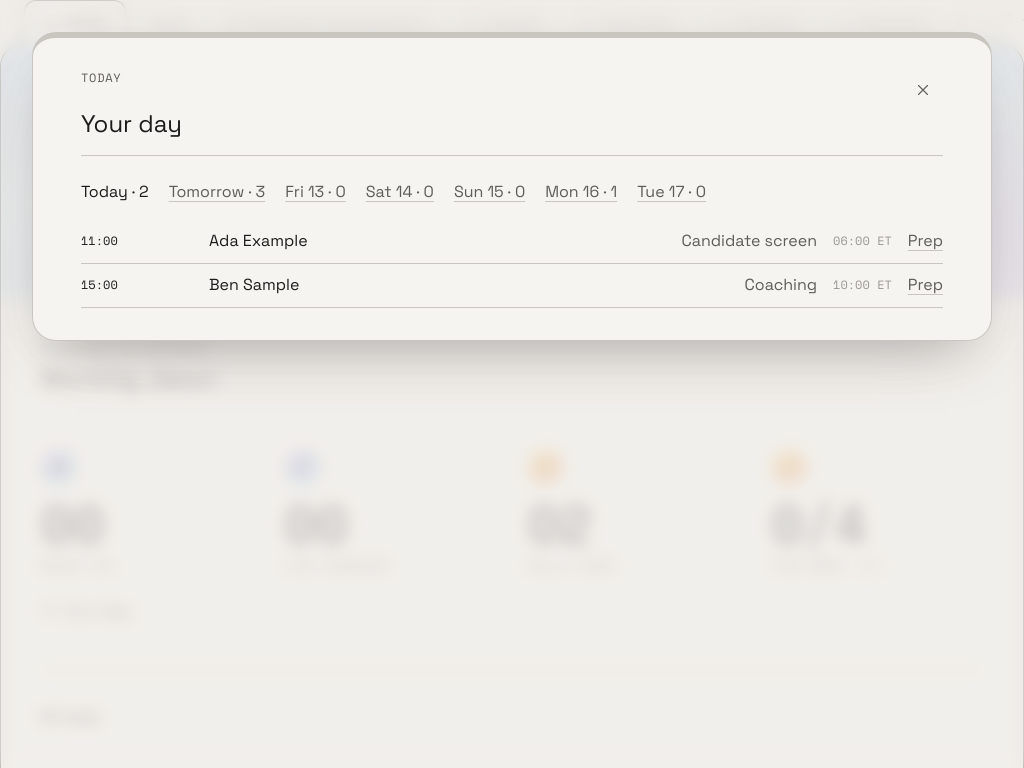
it: Home › the seven-day strip (Jason, 15 November 2026) › a click on a day shows that day’s calls in the same rows, and Prep opens its prep card
Click the button "Mon 16 · 1" at point(581, 192), box x1=545 y1=172 x2=617 y2=212
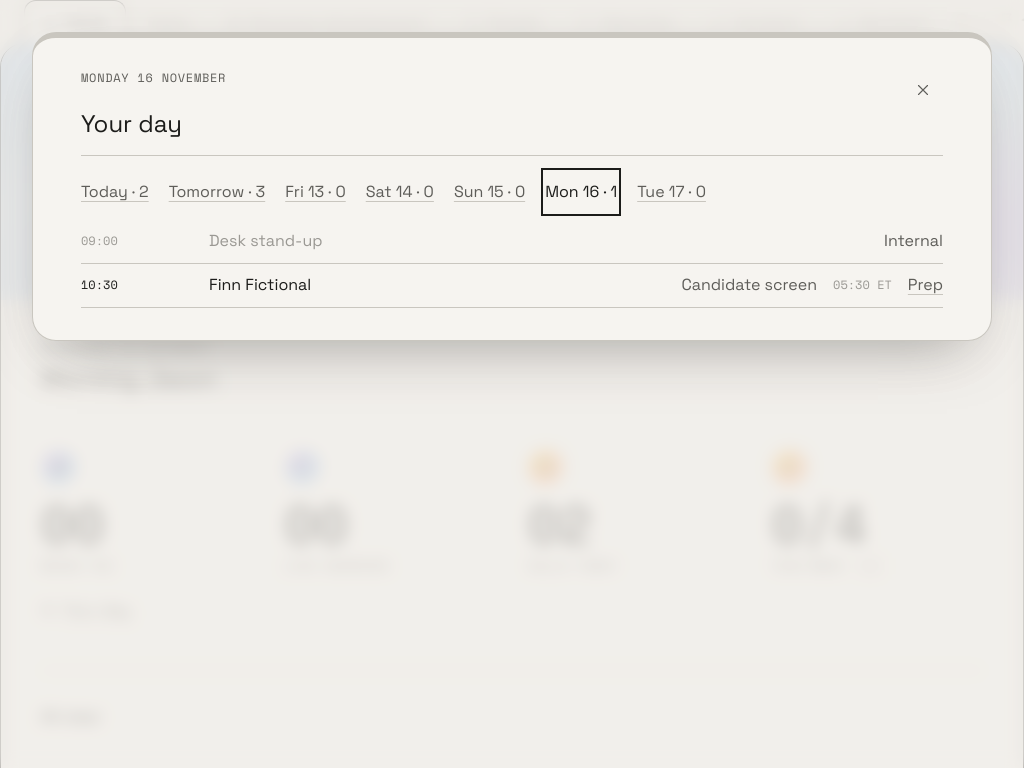
Now the text "Monday 16 November" is shown, box x1=81 y1=69 x2=226 y2=86
Now the list item "10:30 Finn Fictional Candidate screen 05:30 ET Prep" is shown, box x1=81 y1=264 x2=943 y2=308
Click the button "Prep" at point(925, 285), box x1=908 y1=265 x2=943 y2=305
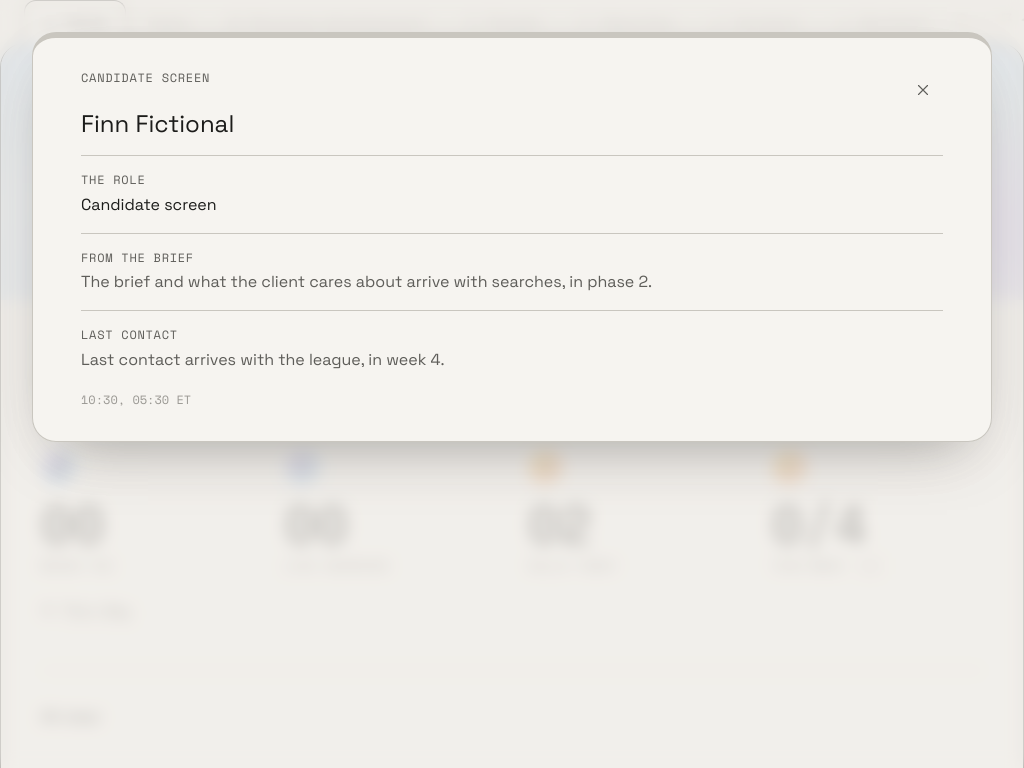
Now the text "10:30, 05:30 ET" is shown, box x1=81 y1=391 x2=191 y2=408
